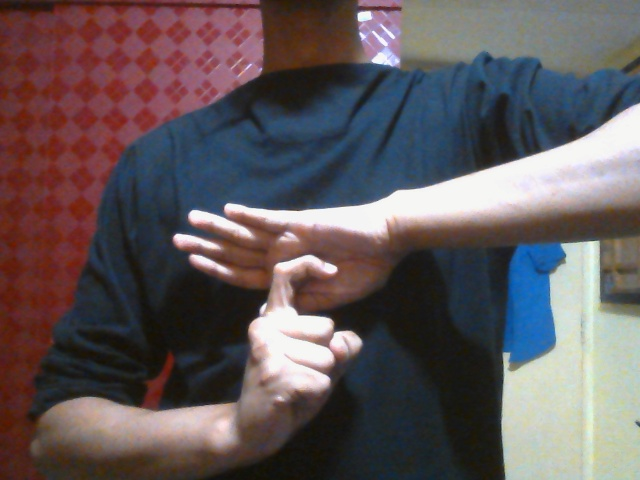R: (168, 198, 395, 435)
